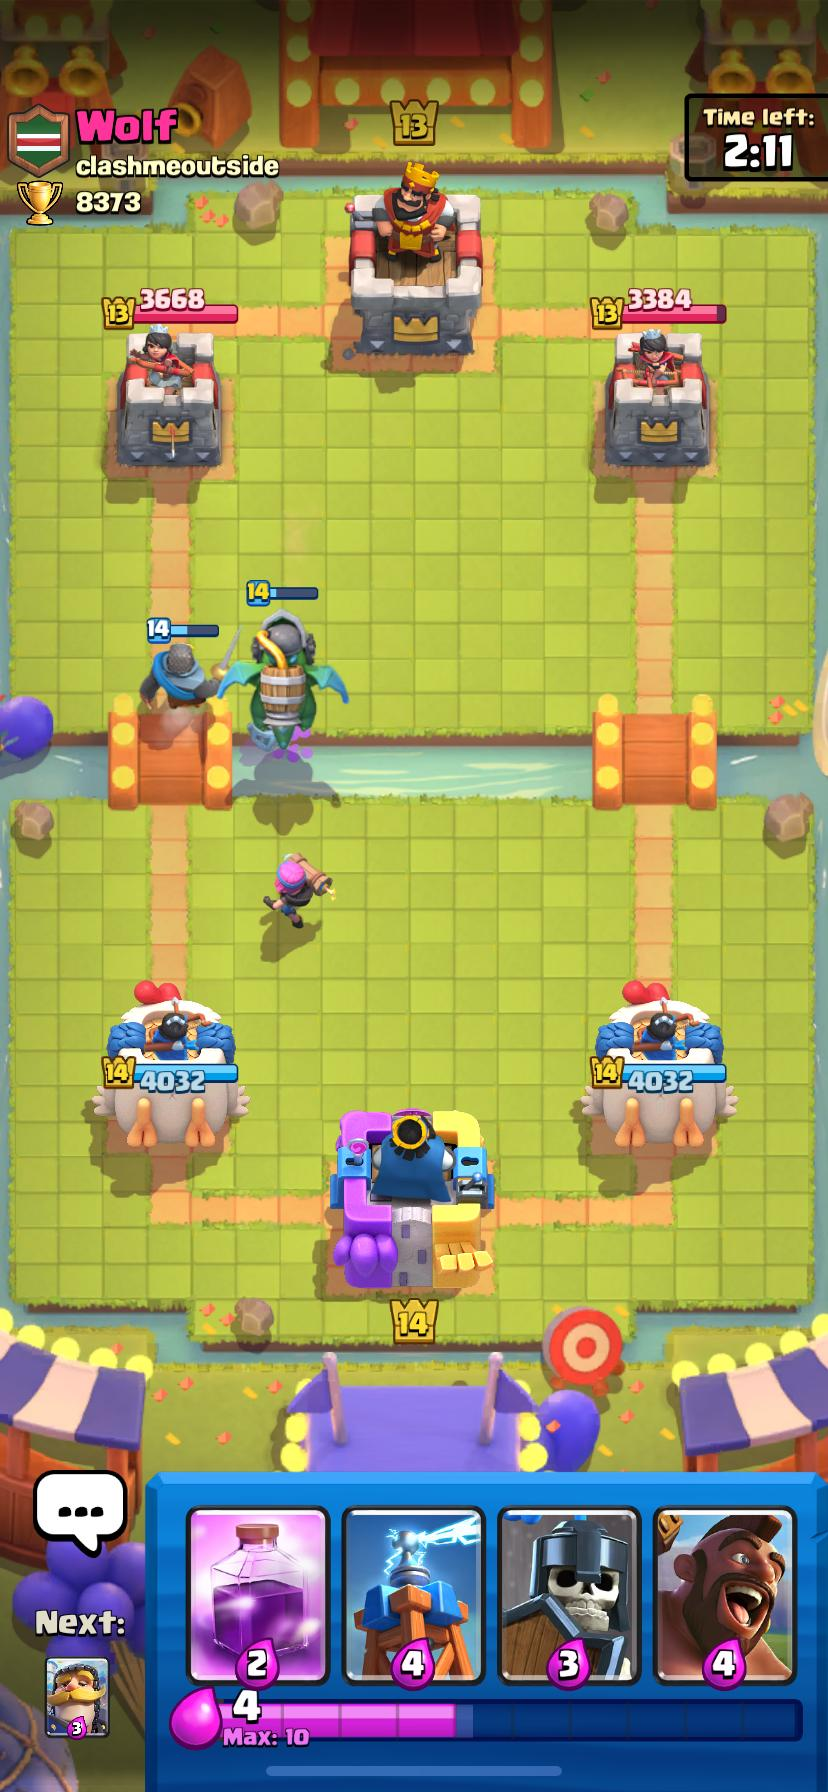EKingTower: (347, 162, 481, 355)
EnemyPrincessTower: (605, 328, 709, 467), (117, 326, 220, 465)
OFirecrack: (264, 854, 332, 927)
OInfernoDrag: (247, 610, 318, 749)
OKnight: (144, 642, 213, 709)
OwnKingTower: (331, 1109, 493, 1293)
OwnPrincessTower: (582, 982, 735, 1147), (94, 997, 247, 1147)
